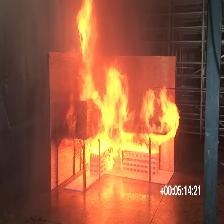fire: (39, 0, 185, 196)
